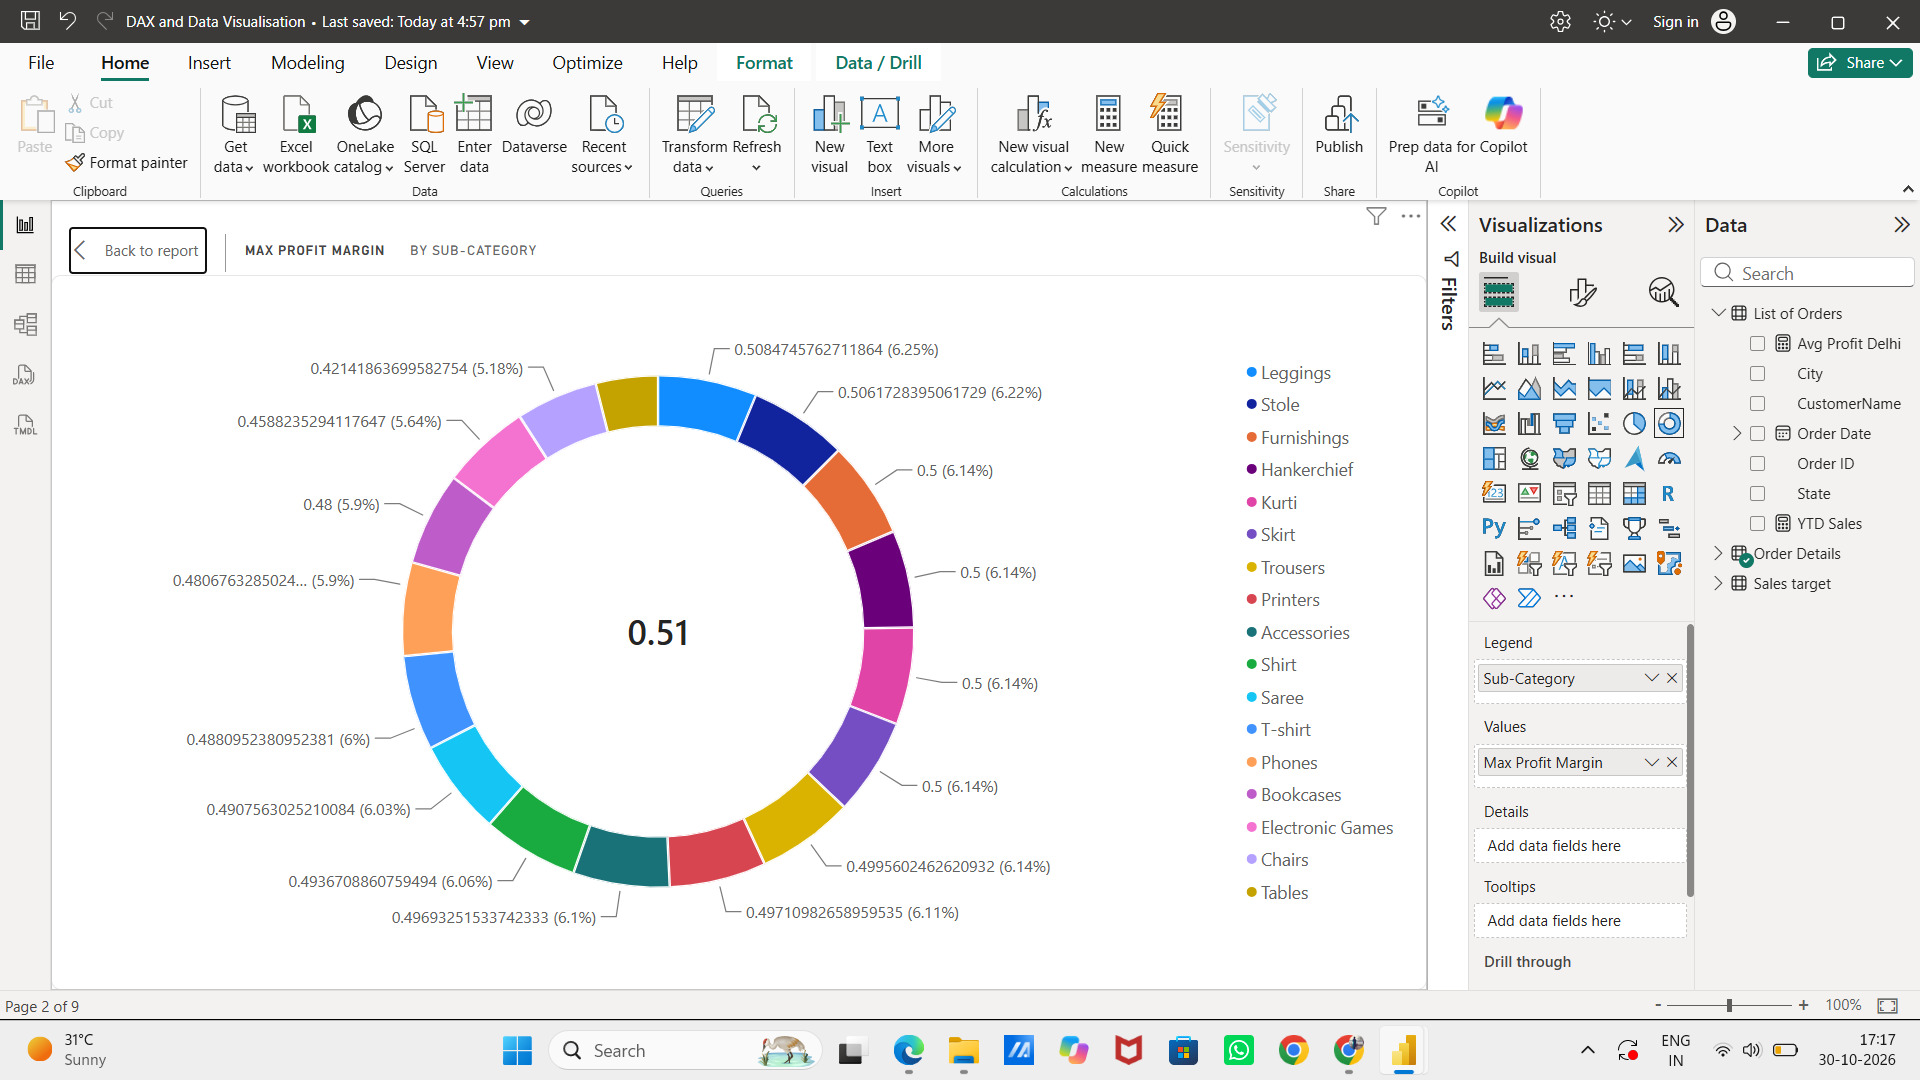

The page's visual inventory and layout, read from the dashboard file:
{"tool":"powerbi","page":{"name":"Donut chart","canvas":[1920,1080],"ordinal":1},"visuals":[{"type":"donutChart","fields":{"Category":["Order Details.Sub-Category"],"Y":["Order Details.Max Profit Margin"]},"box":[0,0,280,280],"z":0}]}

Visuals, with their boxes on the page's 1920x1080 design canvas (x1, y1, x2, y2). These are canvas units, not pixel positions in the 1920x1080 screenshot, which may show the page scaled, cropped or inside an application window:
donutChart - Order Details.Sub-Category x Order Details.Max Profit Margin: [x1=0, y1=0, x2=280, y2=280]
